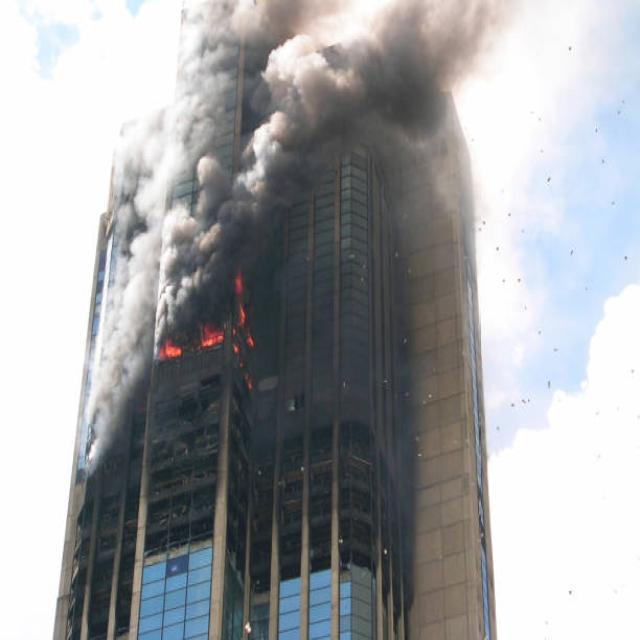Fire: (156, 262, 260, 386)
Smoke: (176, 0, 507, 173), (108, 130, 268, 286), (92, 310, 150, 412)
